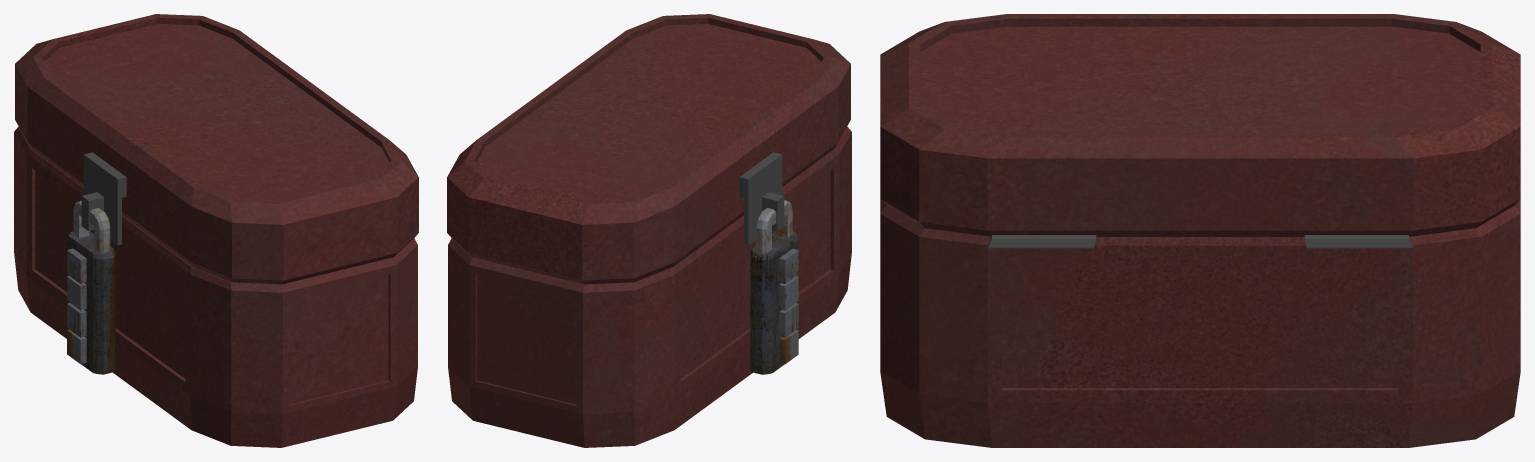
Rendered from caja.fbx.
The picture shows the model from 3 angles, left to right: view 1: azimuth 30°, elevation 25°; view 2: azimuth 150°, elevation 25°; view 3: azimuth 270°, elevation 25°; orthographic projection. The views are drawn at different scales.
Parts seen in each view (by area): view 1: Cylinder.001, Cylinder, Cube, Cube.001, Cube.002, Cube.004, Cube.005, Cube.003; view 2: Cylinder.001, Cylinder, Cube, Cube.001, Cube.002, Cube.004, Cube.005, Cube.003; view 3: Cylinder.001, Cylinder.
Boxes of the visible parts, left/top/right/bottom form: Cylinder.001: left=15, top=14, right=418, bottom=284; Cylinder: left=14, top=126, right=417, bottom=447; Cube: left=67, top=231, right=115, bottom=374; Cube.001: left=73, top=200, right=110, bottom=253; Cube.002: left=67, top=248, right=86, bottom=283; Cube.004: left=67, top=303, right=86, bottom=337; Cube.005: left=67, top=329, right=86, bottom=364; Cube.003: left=67, top=276, right=86, bottom=310; Cylinder.001: left=447, top=14, right=850, bottom=284; Cylinder: left=448, top=126, right=851, bottom=447; Cube: left=750, top=231, right=798, bottom=374; Cube.001: left=755, top=200, right=792, bottom=253; Cube.002: left=779, top=248, right=798, bottom=283; Cube.004: left=779, top=303, right=798, bottom=337; Cube.005: left=779, top=329, right=798, bottom=364; Cube.003: left=779, top=276, right=798, bottom=310; Cylinder.001: left=880, top=14, right=1520, bottom=236; Cylinder: left=880, top=199, right=1520, bottom=447.
Size of the model in its own units: 256 by 223 by 422.
